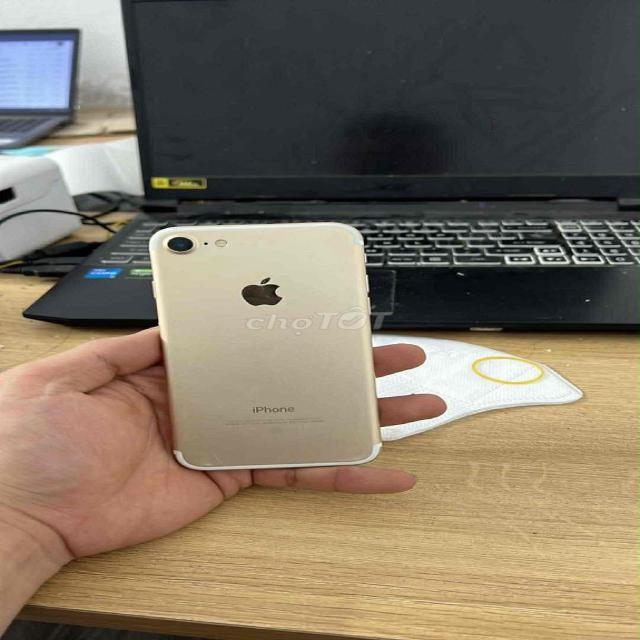gen_7_8: (144, 221, 391, 469)
scratch: (202, 448, 223, 466)
